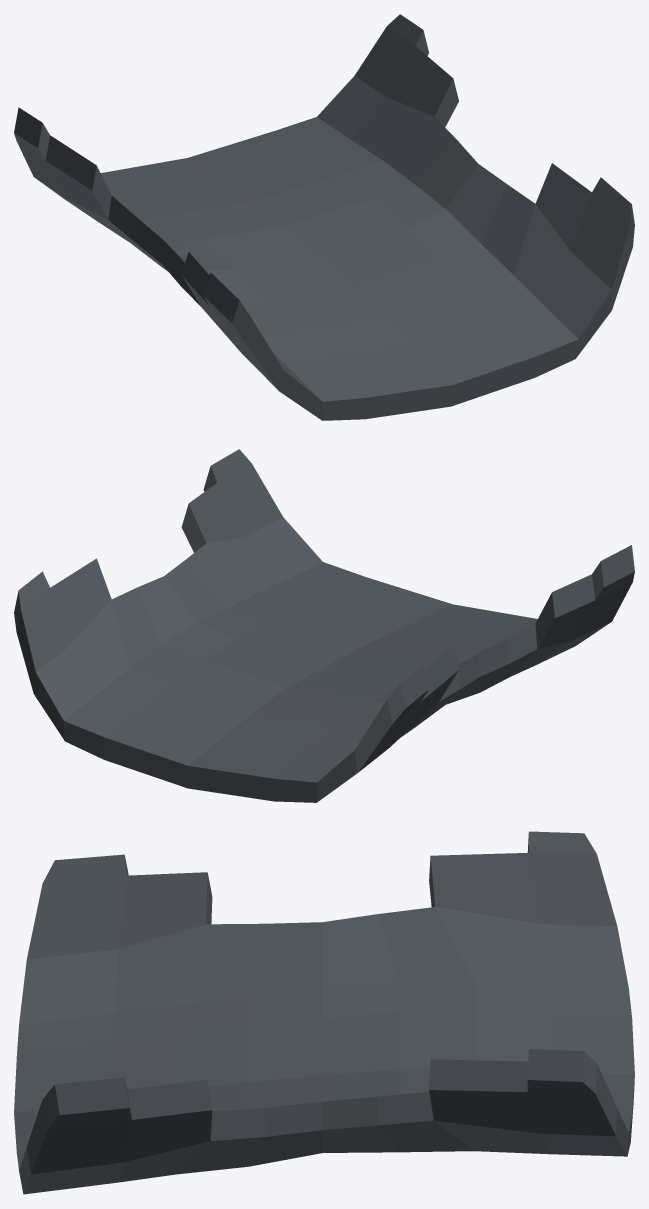
File: Personal_Vehicle_02_Bottom_Frame.fbx
The picture shows the model from 3 angles, top to bottom: view 1: azimuth 30°, elevation 25°; view 2: azimuth 150°, elevation 25°; view 3: azimuth 270°, elevation 25°; orthographic projection. The views are drawn at different scales.
Parts seen in each view (by area): view 1: Personal_Vehicle_02_Bottom_Frame; view 2: Personal_Vehicle_02_Bottom_Frame; view 3: Personal_Vehicle_02_Bottom_Frame.
Boxes of the visible parts, x1=… form: Personal_Vehicle_02_Bottom_Frame: x1=14, y1=14, x2=634, y2=420; Personal_Vehicle_02_Bottom_Frame: x1=14, y1=449, x2=634, y2=802; Personal_Vehicle_02_Bottom_Frame: x1=14, y1=831, x2=634, y2=1194.
Size of the model in its own units: 99.3 by 40.2 by 113.
Materials: 1 (1 with a texture image).
